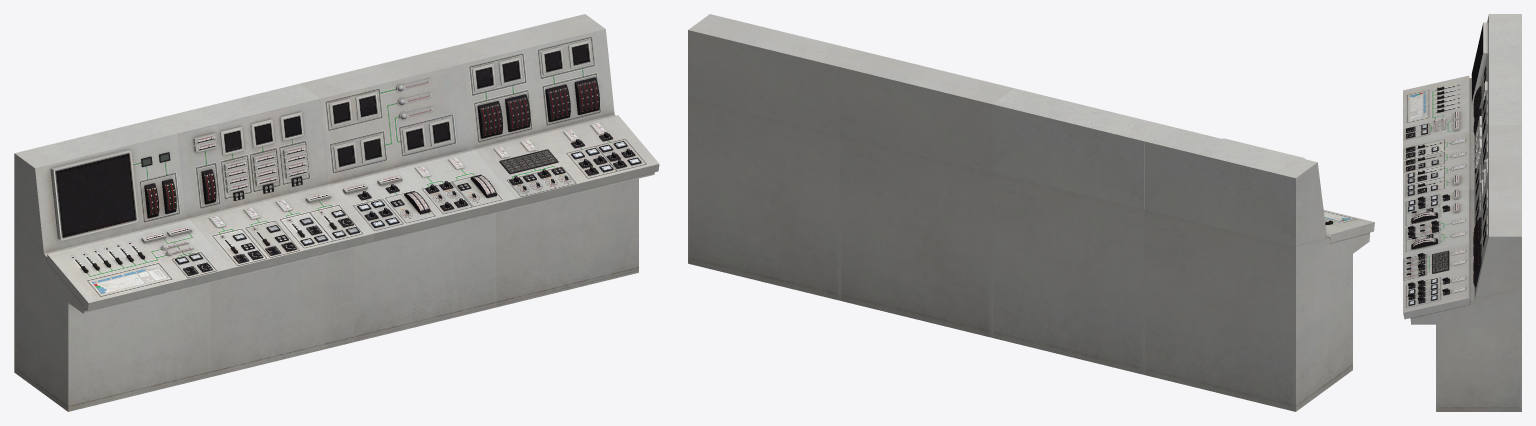
The model's file is sm23_029_controlpanel01a.fbx.
3 renders of one model, left to right at view 1: azimuth 30°, elevation 25°; view 2: azimuth 150°, elevation 25°; view 3: azimuth 270°, elevation 25°, orthographic. The views are drawn at different scales.
Parts seen in each view (by area): view 1: LOD_1_Group_0_Sub_1__sm23_029_ControlPanel01A_B_Mat__Env_Def, LOD_1_Group_7_Sub_1__sm23_029_ControlPanel01A_A_Mat__Env_Def, LOD_1_Group_1_Sub_1__sm23_029_ControlPanel01A_B_Mat__Env_Def, LOD_1_Group_8_Sub_1__sm23_029_ControlPanel01A_A_Mat__Env_Def, LOD_1_Group_9_Sub_1__sm23_029_ControlPanel01A_A_Mat__Env_Def, LOD_1_Group_2_Sub_1__sm23_029_ControlPanel01A_B_Mat__Env_Def, LOD_1_Group_12_Sub_1__sm23_029_ControlPanel01A_A_Mat__Env_De, LOD_1_Group_5_Sub_1__sm23_029_ControlPanel01A_B_Mat__Env_Def, LOD_1_Group_3_Sub_1__sm23_029_ControlPanel01A_B_Mat__Env_Def, LOD_1_Group_13_Sub_1__sm23_029_ControlPanel01A_A_Mat__Env_De, LOD_1_Group_14_Sub_1__sm23_029_ControlPanel01A_A_Mat__Env_De, LOD_1_Group_10_Sub_1__sm23_029_ControlPanel01A_A_Mat__Env_De; view 2: LOD_1_Group_0_Sub_1__sm23_029_ControlPanel01A_B_Mat__Env_Def, LOD_1_Group_7_Sub_1__sm23_029_ControlPanel01A_A_Mat__Env_Def; view 3: LOD_1_Group_7_Sub_1__sm23_029_ControlPanel01A_A_Mat__Env_Def, LOD_1_Group_0_Sub_1__sm23_029_ControlPanel01A_B_Mat__Env_Def, LOD_1_Group_12_Sub_1__sm23_029_ControlPanel01A_A_Mat__Env_De, LOD_1_Group_1_Sub_1__sm23_029_ControlPanel01A_B_Mat__Env_Def, LOD_1_Group_9_Sub_1__sm23_029_ControlPanel01A_A_Mat__Env_Def, LOD_1_Group_5_Sub_1__sm23_029_ControlPanel01A_B_Mat__Env_Def, LOD_1_Group_2_Sub_1__sm23_029_ControlPanel01A_B_Mat__Env_Def, LOD_1_Group_8_Sub_1__sm23_029_ControlPanel01A_A_Mat__Env_Def, LOD_1_Group_13_Sub_1__sm23_029_ControlPanel01A_A_Mat__Env_De, LOD_1_Group_10_Sub_1__sm23_029_ControlPanel01A_A_Mat__Env_De, LOD_1_Group_4_Sub_1__sm23_029_ControlPanel01A_B_Mat__Env_Def, LOD_1_Group_3_Sub_1__sm23_029_ControlPanel01A_B_Mat__Env_Def (+3 smaller).
Boxes of the visible parts, <box> form: LOD_1_Group_0_Sub_1__sm23_029_ControlPanel01A_B_Mat__Env_Def: <box>14,83,373,411</box>; LOD_1_Group_7_Sub_1__sm23_029_ControlPanel01A_A_Mat__Env_Def: <box>300,14,659,341</box>; LOD_1_Group_1_Sub_1__sm23_029_ControlPanel01A_B_Mat__Env_Def: <box>50,112,304,240</box>; LOD_1_Group_8_Sub_1__sm23_029_ControlPanel01A_A_Mat__Env_Def: <box>329,40,592,169</box>; LOD_1_Group_9_Sub_1__sm23_029_ControlPanel01A_A_Mat__Env_Def: <box>404,77,599,214</box>; LOD_1_Group_2_Sub_1__sm23_029_ControlPanel01A_B_Mat__Env_Def: <box>141,133,330,243</box>; LOD_1_Group_12_Sub_1__sm23_029_ControlPanel01A_A_Mat__Env_De: <box>357,133,641,227</box>; LOD_1_Group_5_Sub_1__sm23_029_ControlPanel01A_B_Mat__Env_Def: <box>175,176,359,275</box>; LOD_1_Group_3_Sub_1__sm23_029_ControlPanel01A_B_Mat__Env_Def: <box>141,152,216,218</box>; LOD_1_Group_13_Sub_1__sm23_029_ControlPanel01A_A_Mat__Env_De: <box>342,122,606,194</box>; LOD_1_Group_14_Sub_1__sm23_029_ControlPanel01A_A_Mat__Env_De: <box>390,78,565,207</box>; LOD_1_Group_10_Sub_1__sm23_029_ControlPanel01A_A_Mat__Env_De: <box>362,132,631,217</box>; LOD_1_Group_0_Sub_1__sm23_029_ControlPanel01A_B_Mat__Env_Def: <box>992,88,1374,411</box>; LOD_1_Group_7_Sub_1__sm23_029_ControlPanel01A_A_Mat__Env_Def: <box>688,14,1013,337</box>; LOD_1_Group_7_Sub_1__sm23_029_ControlPanel01A_A_Mat__Env_Def: <box>1403,125,1521,411</box>; LOD_1_Group_0_Sub_1__sm23_029_ControlPanel01A_B_Mat__Env_Def: <box>1403,14,1521,201</box>; LOD_1_Group_12_Sub_1__sm23_029_ControlPanel01A_A_Mat__Env_De: <box>1408,195,1449,305</box>; LOD_1_Group_1_Sub_1__sm23_029_ControlPanel01A_B_Mat__Env_Def: <box>1471,22,1488,140</box>; LOD_1_Group_9_Sub_1__sm23_029_ControlPanel01A_A_Mat__Env_Def: <box>1411,212,1481,287</box>; LOD_1_Group_5_Sub_1__sm23_029_ControlPanel01A_B_Mat__Env_Def: <box>1406,123,1476,196</box>; LOD_1_Group_2_Sub_1__sm23_029_ControlPanel01A_B_Mat__Env_Def: <box>1451,81,1487,185</box>; LOD_1_Group_8_Sub_1__sm23_029_ControlPanel01A_A_Mat__Env_Def: <box>1475,133,1487,251</box>; LOD_1_Group_13_Sub_1__sm23_029_ControlPanel01A_A_Mat__Env_De: <box>1452,188,1464,293</box>; LOD_1_Group_10_Sub_1__sm23_029_ControlPanel01A_A_Mat__Env_De: <box>1406,194,1448,300</box>; LOD_1_Group_4_Sub_1__sm23_029_ControlPanel01A_B_Mat__Env_Def: <box>1406,86,1474,191</box>; LOD_1_Group_3_Sub_1__sm23_029_ControlPanel01A_B_Mat__Env_Def: <box>1473,66,1486,135</box>.
Size of the model in its own units: 4.02 by 1.48 by 0.9059.
